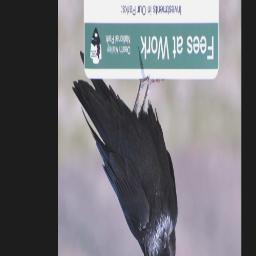Crow: (72, 48, 178, 256)
